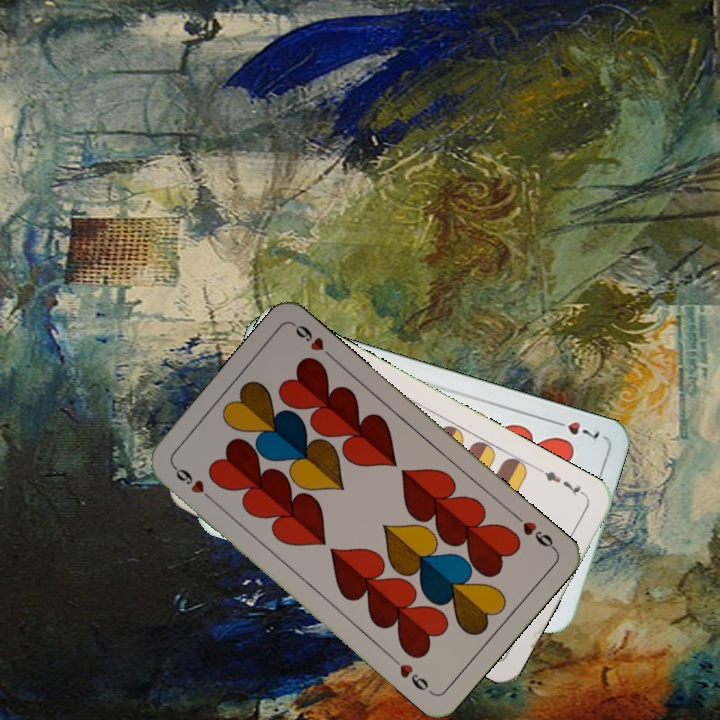E7: (534, 464, 589, 499)
H7: (547, 415, 603, 442)
H9: (169, 461, 217, 505), (510, 510, 559, 553)
